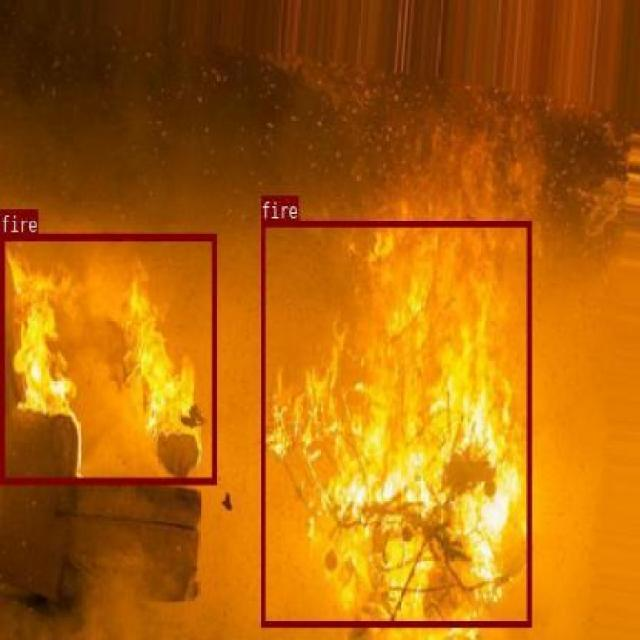fire: (259, 220, 532, 626), (0, 231, 215, 482)
